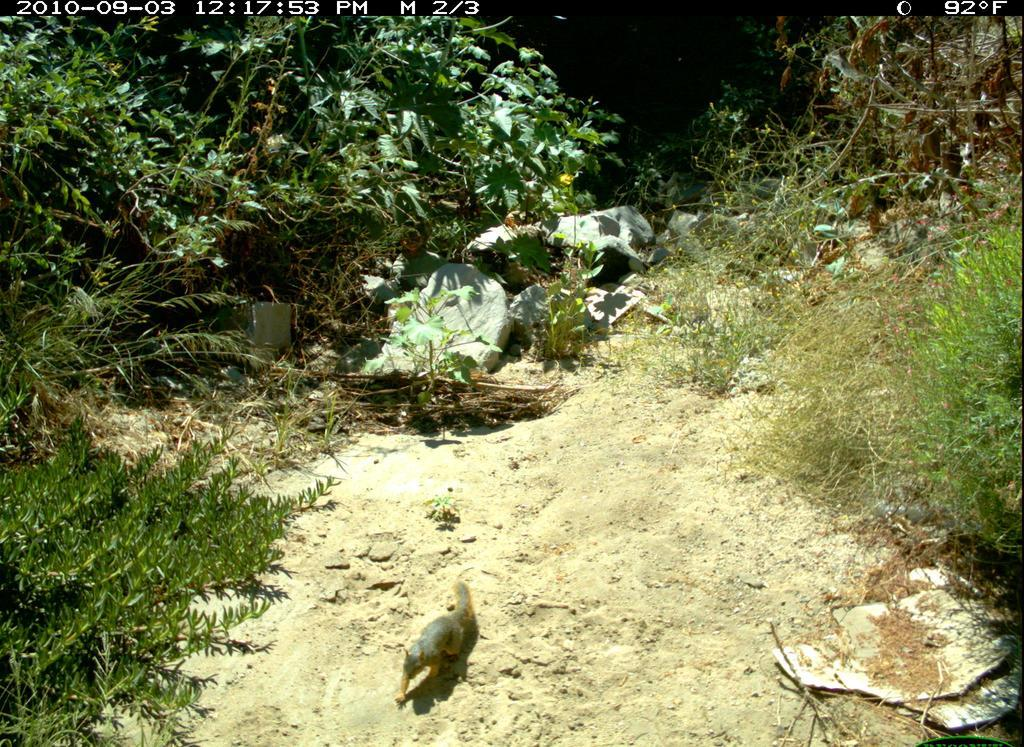squirrel: (392, 580, 498, 719)
